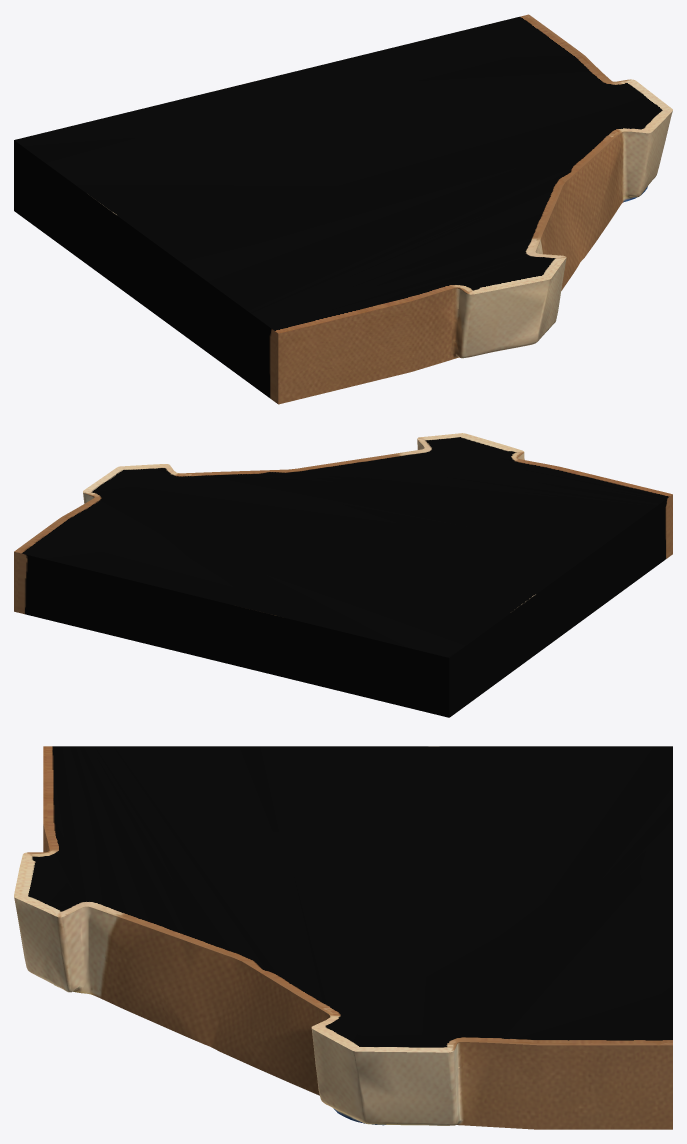
File: 10-roof-front-right.fbx
3 renders of one model, top to bottom at view 1: azimuth 30°, elevation 25°; view 2: azimuth 150°, elevation 25°; view 3: azimuth 270°, elevation 25°, orthographic. The views are drawn at different scales.
Visible parts, largest first — view 1: roof-front-right; view 2: roof-front-right; view 3: roof-front-right.
Part boxes in pixels (<box>): roof-front-right: <box>14,14,672,404</box>; roof-front-right: <box>14,433,672,717</box>; roof-front-right: <box>14,746,672,1129</box>.
Size of the model in its own units: 7419 by 953 by 6743.
1 material, 1 textured.
